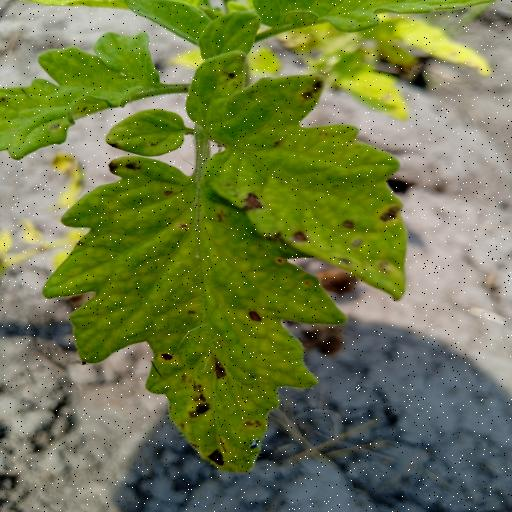Tomato_Brown_Spots: (45, 153, 354, 479), (197, 70, 414, 303), (0, 26, 165, 160)
